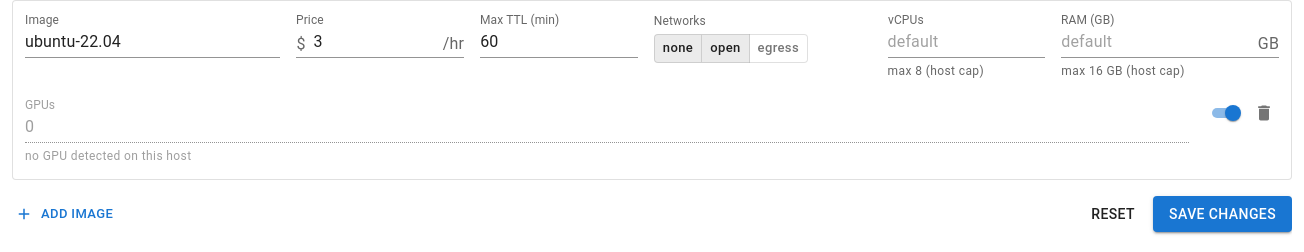
Test: HostImagesEditor › blocks an over-cap RAM value with the cap in the message
The image size is (1304, 252).
Type "64" into the number field named "ram gb for ubuntu-22.04".
click(1156, 44); type("64")  # box [1061,29,1250,58]
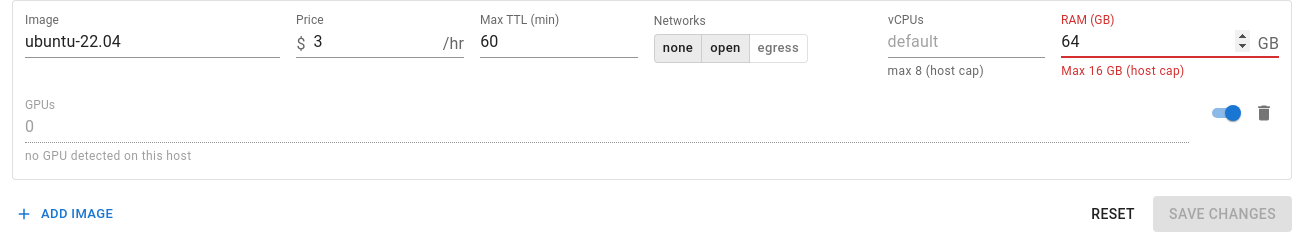
Expected: the text "Max 16 GB (host cap)" is shown, [1061,64,1185,78]
Now the button "Save changes" is disabled, box [1153,196,1292,232]
